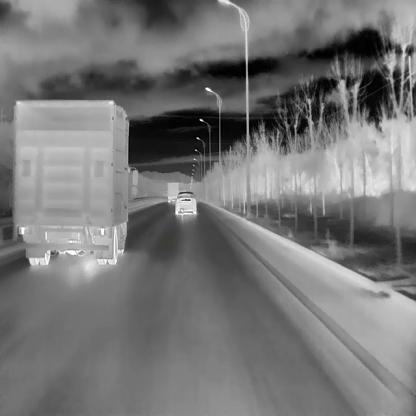car: (13, 98, 138, 265), (174, 191, 196, 214), (166, 182, 179, 202)
